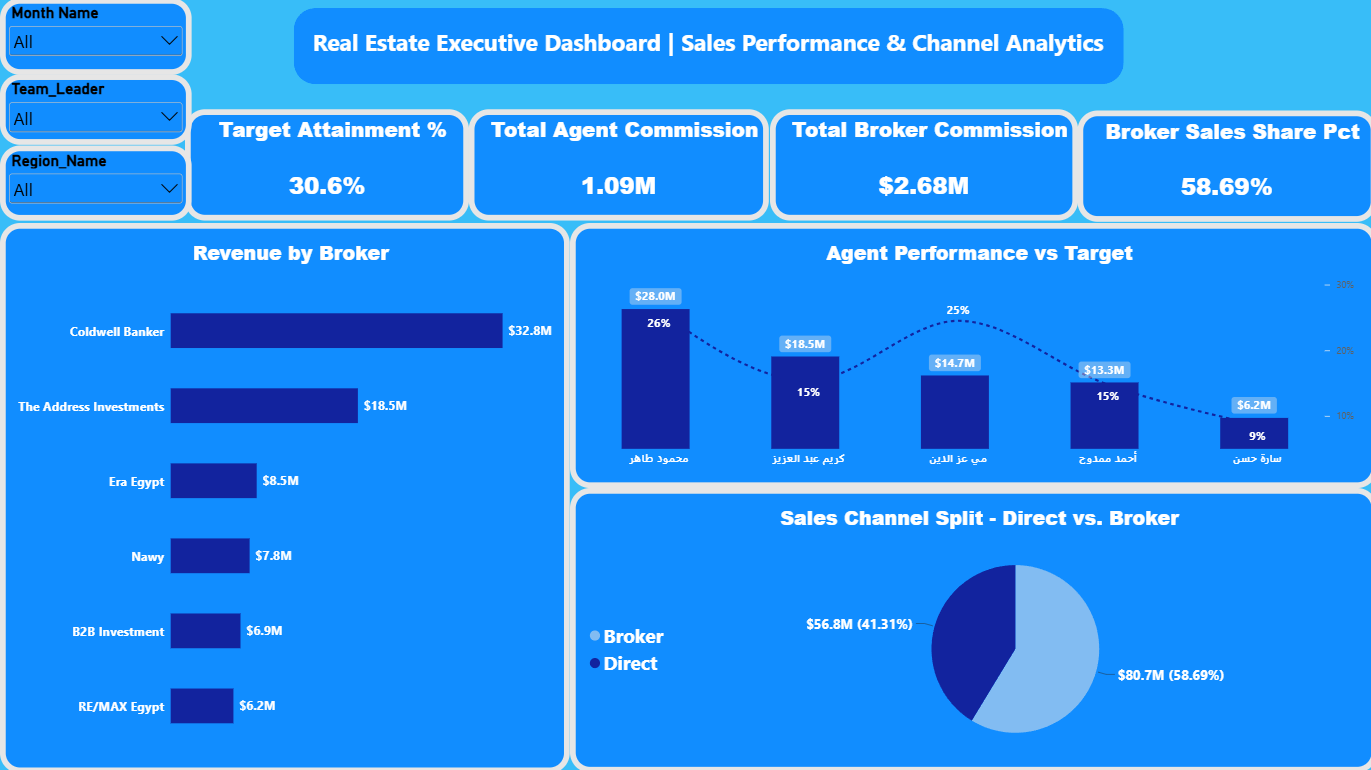

Layout of this report page (visuals, bound fields, positions):
{"tool":"powerbi","page":{"name":"Sales Performance & Channel Analytics","canvas":[1920,1080],"ordinal":3},"visuals":[{"type":"shape","box":[409.6,13.9,1157.3,106.3],"z":0},{"type":"textbox","box":[427,40.1,1120.7,55.8],"z":1000},{"type":"cardVisual","title":"Target Attainment %","fields":{"Data":["Measures (2).Target Attainment Pct"]},"box":[257.5,155.3,396.2,154.9],"z":2000},{"type":"cardVisual","title":"Total Agent Commission","fields":{"Data":["Measures (2).Total Agent Commission"]},"box":[653.9,155.3,418.5,155.6],"z":3000},{"type":"cardVisual","title":"Total Broker Commission","fields":{"Data":["Measures (2).Total Broker Commission"]},"box":[1072.8,155.3,429.6,155.6],"z":4000},{"type":"cardVisual","title":"Broker Sales Share Pct","fields":{"Data":["Measures (2).Broker Sales Share Pct"]},"box":[1501.9,157.5,416.7,155.6],"z":5000},{"type":"pieChart","title":"Sales Channel Split - Direct vs. Broker","fields":{"Category":["Fact_Sales.Sales_Channel"],"Y":["Measures (2).Total Revenue"]},"box":[794.9,682.5,1125.9,396.4],"z":6000},{"type":"clusteredBarChart","title":"Revenue by Broker","fields":{"Category":["Dim_Brokers.Broker_Name"],"Y":["Measures (2).Total Revenue"]},"box":[0,313.7,794.8,766.9],"z":7000},{"type":"lineStackedColumnComboChart","title":"Agent Performance vs Target","fields":{"Category":["Dim_Agents.Agent_Name"],"Y":["Measures (2).Total Revenue"],"Y2":["Measures (2).Target Attainment Pct"]},"box":[794.8,313.7,1125.9,369.5],"z":8000},{"type":"slicer","title":"Month","fields":{"Values":["Dim_Calendar.Month Name"]},"box":[0,0,267.4,106.9],"z":9000},{"type":"slicer","title":"Month","fields":{"Values":["Dim_Agents.Team_Leader"]},"box":[0,106.9,267.4,98.7],"z":10000},{"type":"slicer","title":"Month","fields":{"Values":["Dim_Regions.Region_Name"]},"box":[0,205.7,267.4,104.9],"z":11000}]}

Visuals, with their boxes in screenshot pixels (x1, y1, x2, y2), scaled from the page's 1920x1080 canvas onto the 1371x770 screenshot:
shape: {"left": 292, "top": 10, "right": 1119, "bottom": 86}
textbox: {"left": 305, "top": 29, "right": 1105, "bottom": 68}
"Target Attainment %" cardVisual: {"left": 184, "top": 111, "right": 467, "bottom": 221}
"Total Agent Commission" cardVisual: {"left": 467, "top": 111, "right": 766, "bottom": 222}
"Total Broker Commission" cardVisual: {"left": 766, "top": 111, "right": 1073, "bottom": 222}
"Broker Sales Share Pct" cardVisual: {"left": 1072, "top": 112, "right": 1370, "bottom": 223}
"Sales Channel Split - Direct vs. Broker" pieChart: {"left": 568, "top": 487, "right": 1370, "bottom": 769}
"Revenue by Broker" clusteredBarChart: {"left": 0, "top": 224, "right": 568, "bottom": 769}
"Agent Performance vs Target" lineStackedColumnComboChart: {"left": 568, "top": 224, "right": 1370, "bottom": 487}
"Month" slicer: {"left": 0, "top": 0, "right": 191, "bottom": 76}
"Month" slicer: {"left": 0, "top": 76, "right": 191, "bottom": 147}
"Month" slicer: {"left": 0, "top": 147, "right": 191, "bottom": 221}
